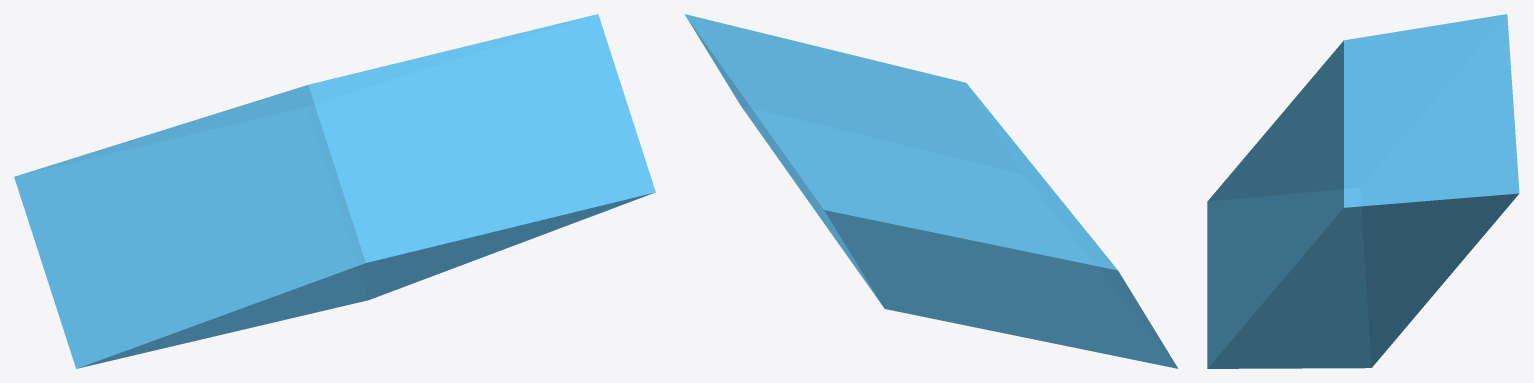
File: Event_421278790_HBrechit_14.fbx
3 views of the same model, side by side, from view 1: azimuth 30°, elevation 25°; view 2: azimuth 150°, elevation 25°; view 3: azimuth 270°, elevation 25° (orthographic). The views are drawn at different scales.
Parts seen in each view (by area): view 1: Model; view 2: Model; view 3: Model.
Boxes of the visible parts, x1,y1,x2,y2 form: Model: [14, 14, 655, 368]; Model: [684, 14, 1178, 368]; Model: [1207, 14, 1519, 368].
Size of the model in its own units: 1.26 by 0.5656 by 0.5592.
